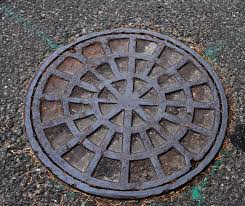Manhole-Closed: (20, 17, 231, 204)
